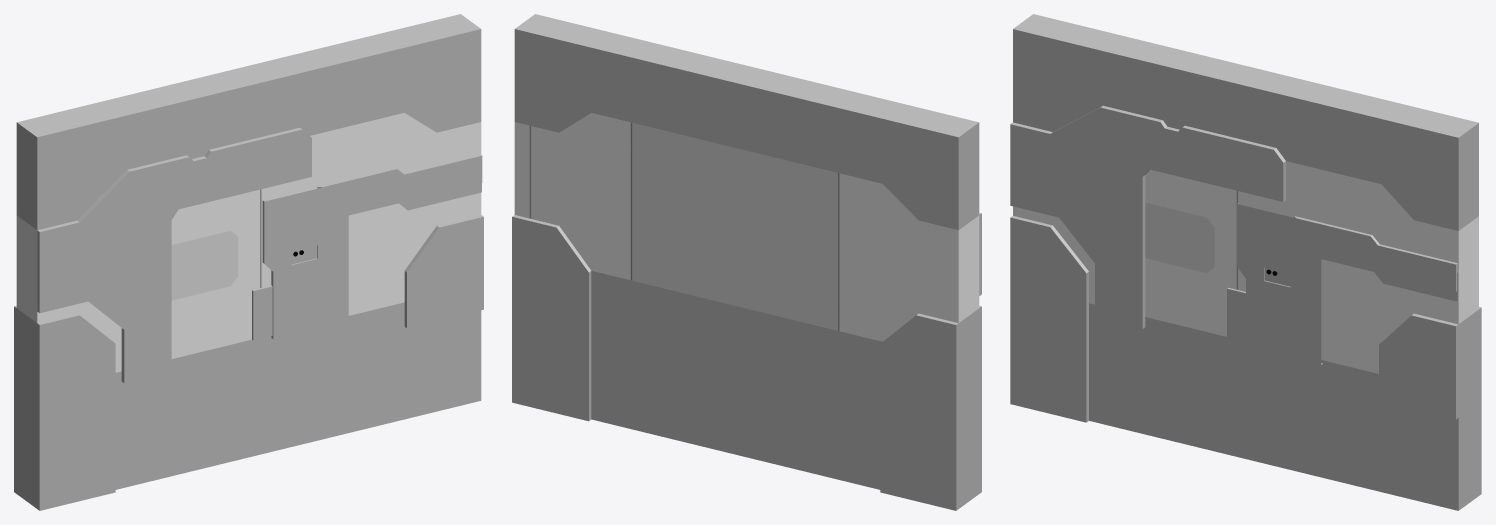
The model's file is SM_Wall_5x3_3.fbx.
The picture shows the model from 3 angles, left to right: view 1: azimuth 30°, elevation 25°; view 2: azimuth 150°, elevation 25°; view 3: azimuth 330°, elevation 25°; orthographic projection.
Parts seen in each view (by area): view 1: SM_Wall_5x3_3; view 2: SM_Wall_5x3_3; view 3: SM_Wall_5x3_3.
Boxes of the visible parts, left/top/right/bottom form: SM_Wall_5x3_3: left=14, top=14, right=483, bottom=510; SM_Wall_5x3_3: left=512, top=14, right=981, bottom=510; SM_Wall_5x3_3: left=1010, top=14, right=1481, bottom=510.
Bounding box in the file's own units: 500 × 400 × 50.
